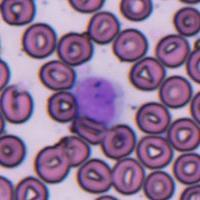M: (74, 74, 123, 125)
